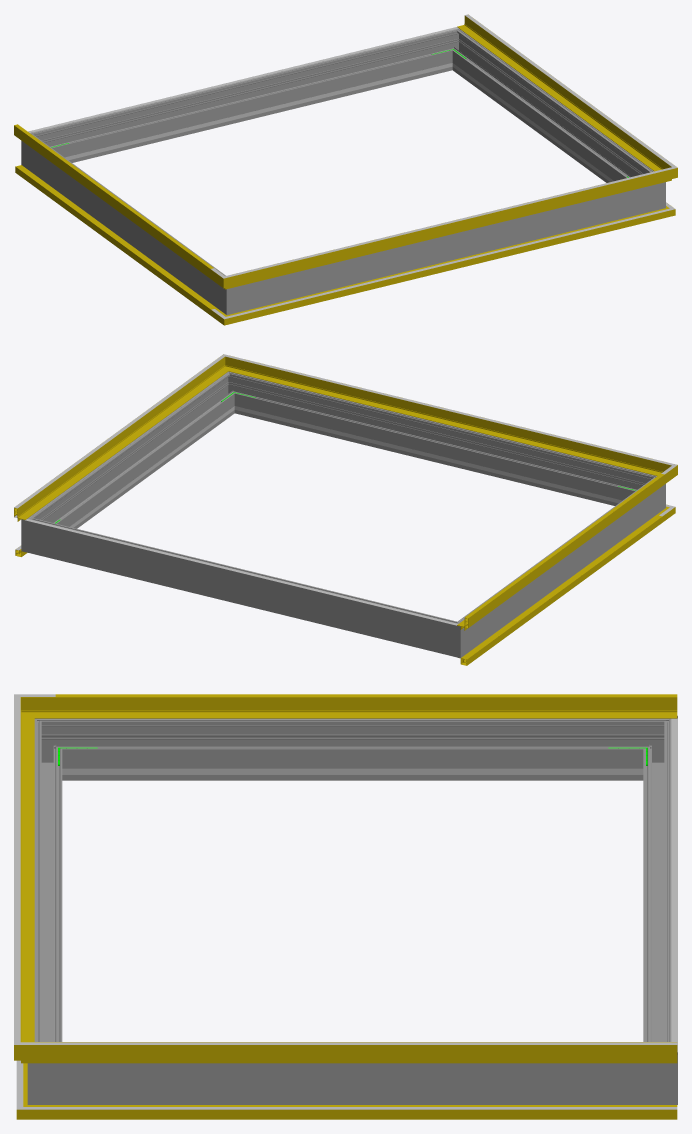
The picture shows the model from 3 angles, top to bottom: view 1: azimuth 30°, elevation 25°; view 2: azimuth 150°, elevation 25°; view 3: azimuth 270°, elevation 25°; orthographic projection. The views are drawn at different scales.
Visible parts, largest first — view 1: 3DGeom-276, 3DGeom-298, 3DGeom-297, 3DGeom-56, 3DGeom-268, 3DGeom-11, 3DGeom-58, 3DGeom-50, 3DGeom-6, 3DGeom-244, 3DGeom-220, 3DGeom-66 (+9 smaller); view 2: 3DGeom-298, 3DGeom-276, 3DGeom-297, 3DGeom-56, 3DGeom-268, 3DGeom-58, 3DGeom-50, 3DGeom-6, 3DGeom-239, 3DGeom-220, 3DGeom-278, 3DGeom-66 (+7 smaller); view 3: 3DGeom-268, 3DGeom-297, 3DGeom-50, 3DGeom-58, 3DGeom-298, 3DGeom-276, 3DGeom-16, 3DGeom-56, 3DGeom-232, 3DGeom-220, 3DGeom-66, 3DGeom-64 (+8 smaller).
Part boxes in pixels (box(x1,y1,x2,y2)): 3DGeom-276: box(46, 33, 448, 162); 3DGeom-298: box(249, 187, 643, 309); 3DGeom-297: box(454, 36, 648, 182); 3DGeom-56: box(244, 173, 655, 284); 3DGeom-268: box(34, 141, 220, 305); 3DGeom-11: box(243, 212, 652, 319); 3DGeom-58: box(457, 15, 660, 170); 3DGeom-50: box(14, 125, 210, 278); 3DGeom-6: box(15, 165, 216, 315); 3DGeom-244: box(73, 68, 430, 158); 3DGeom-220: box(28, 27, 458, 132); 3DGeom-66: box(244, 172, 654, 272); 3DGeom-298: box(238, 376, 640, 505); 3DGeom-276: box(44, 522, 441, 652); 3DGeom-297: box(38, 379, 232, 528); 3DGeom-56: box(240, 361, 652, 473); 3DGeom-268: box(466, 484, 652, 648); 3DGeom-58: box(14, 365, 221, 521); 3DGeom-50: box(457, 474, 664, 630); 3DGeom-6: box(459, 515, 662, 665); 3DGeom-239: box(256, 411, 614, 501); 3DGeom-220: box(25, 519, 457, 625); 3DGeom-278: box(438, 615, 473, 658); 3DGeom-66: box(244, 359, 654, 460); 3DGeom-268: box(69, 718, 636, 780); 3DGeom-297: box(69, 1063, 636, 1104); 3DGeom-50: box(55, 697, 677, 718); 3DGeom-58: box(55, 1042, 677, 1063); 3DGeom-298: box(34, 733, 62, 1041); 3DGeom-276: box(643, 733, 671, 1041); 3DGeom-16: box(58, 1105, 677, 1119); 3DGeom-56: box(20, 712, 34, 1041); 3DGeom-232: box(102, 768, 603, 774); 3DGeom-220: box(671, 718, 677, 1052); 3DGeom-66: box(14, 712, 20, 1027); 3DGeom-64: box(55, 1042, 677, 1044).
Bounding box in the file's own units: 3.05 × 0.307 × 2.44.
